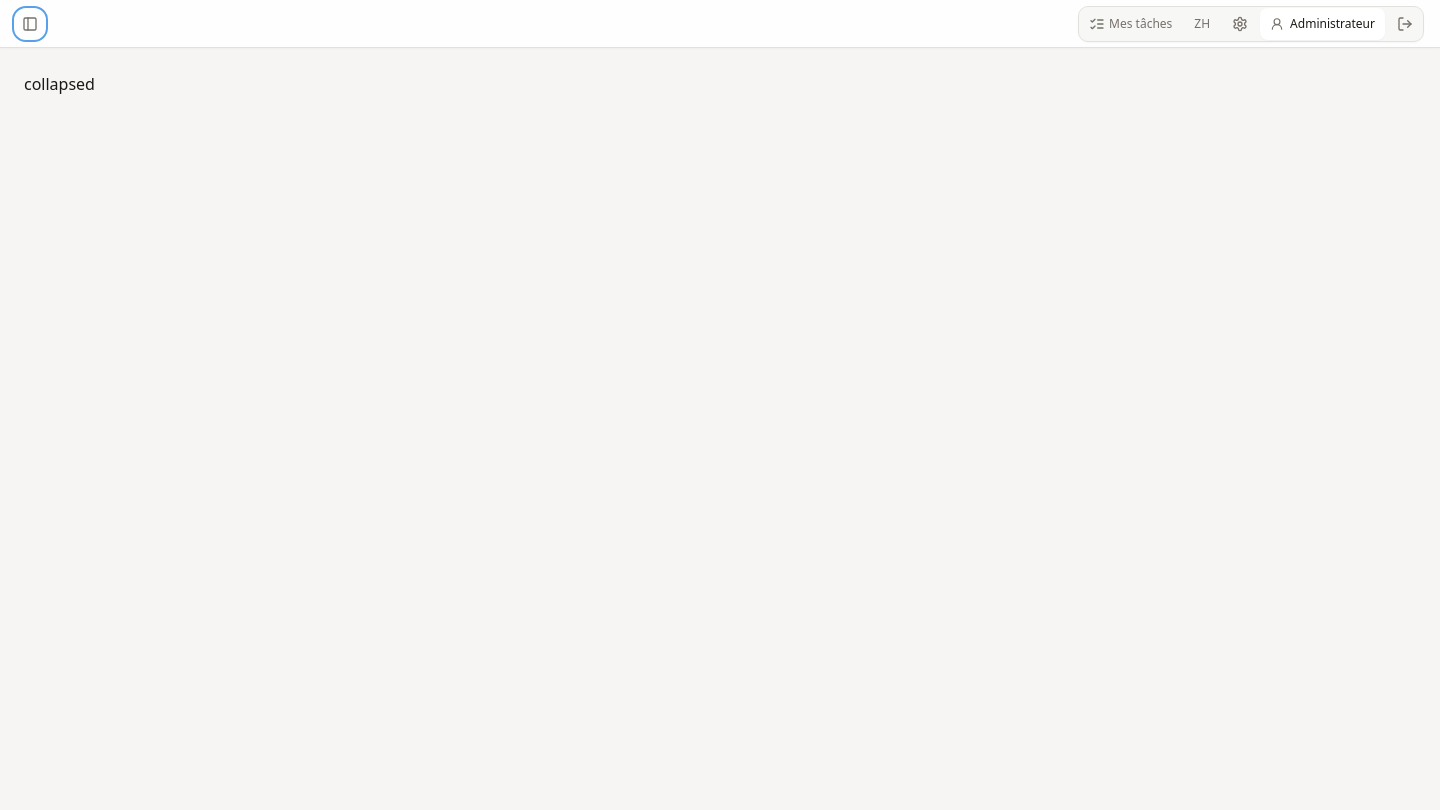
Test: closes the real fr sheet from its explicit close button
Check: the text "collapsed" is shown, box [24,73,95,95]
Click the button named "Afficher ou masquer le menu" at x=30, y=24, box [16,10,44,38]
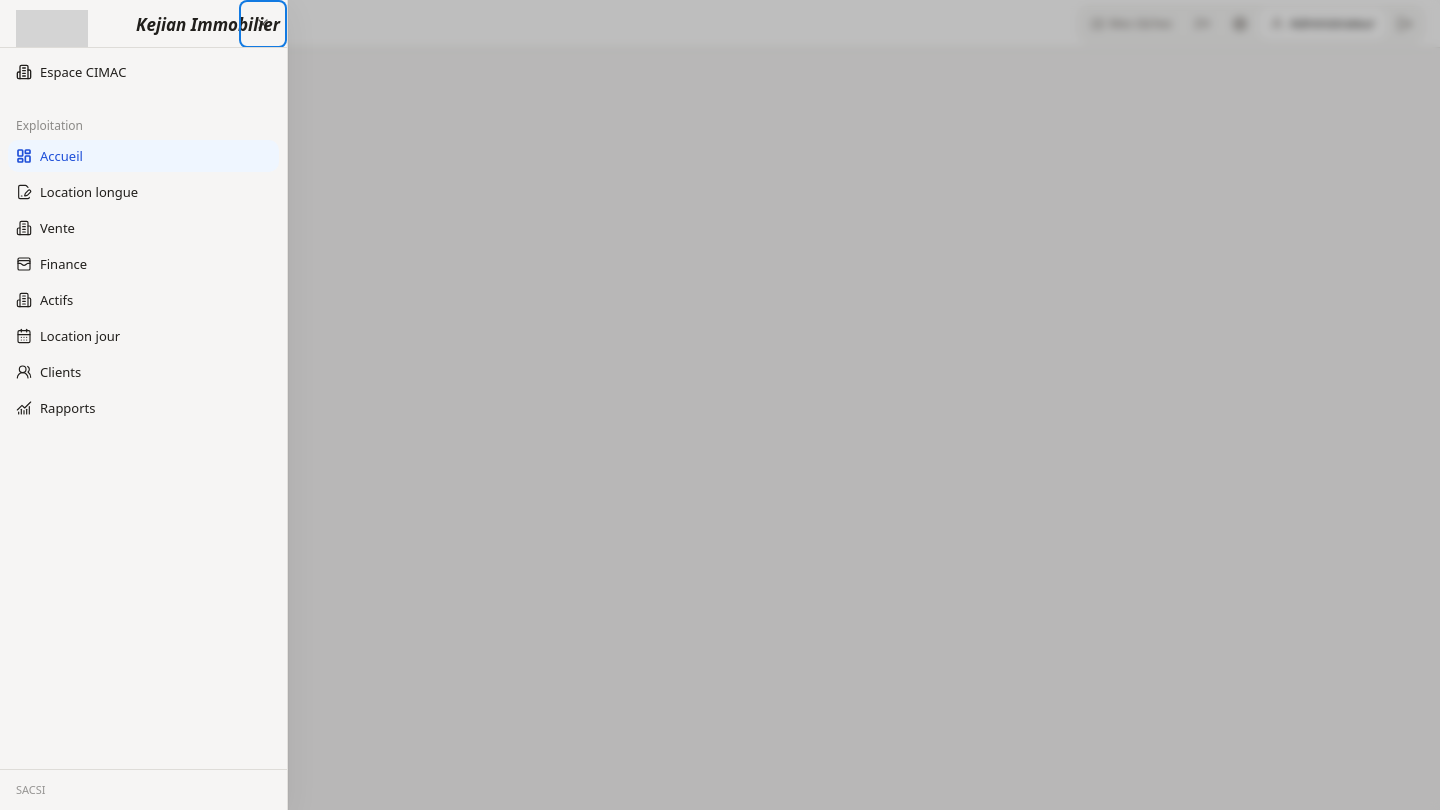
Check: the dialog is shown, box [0,0,288,809]
Click the button named "Fermer le menu" at x=263, y=24, box [239,0,287,48]
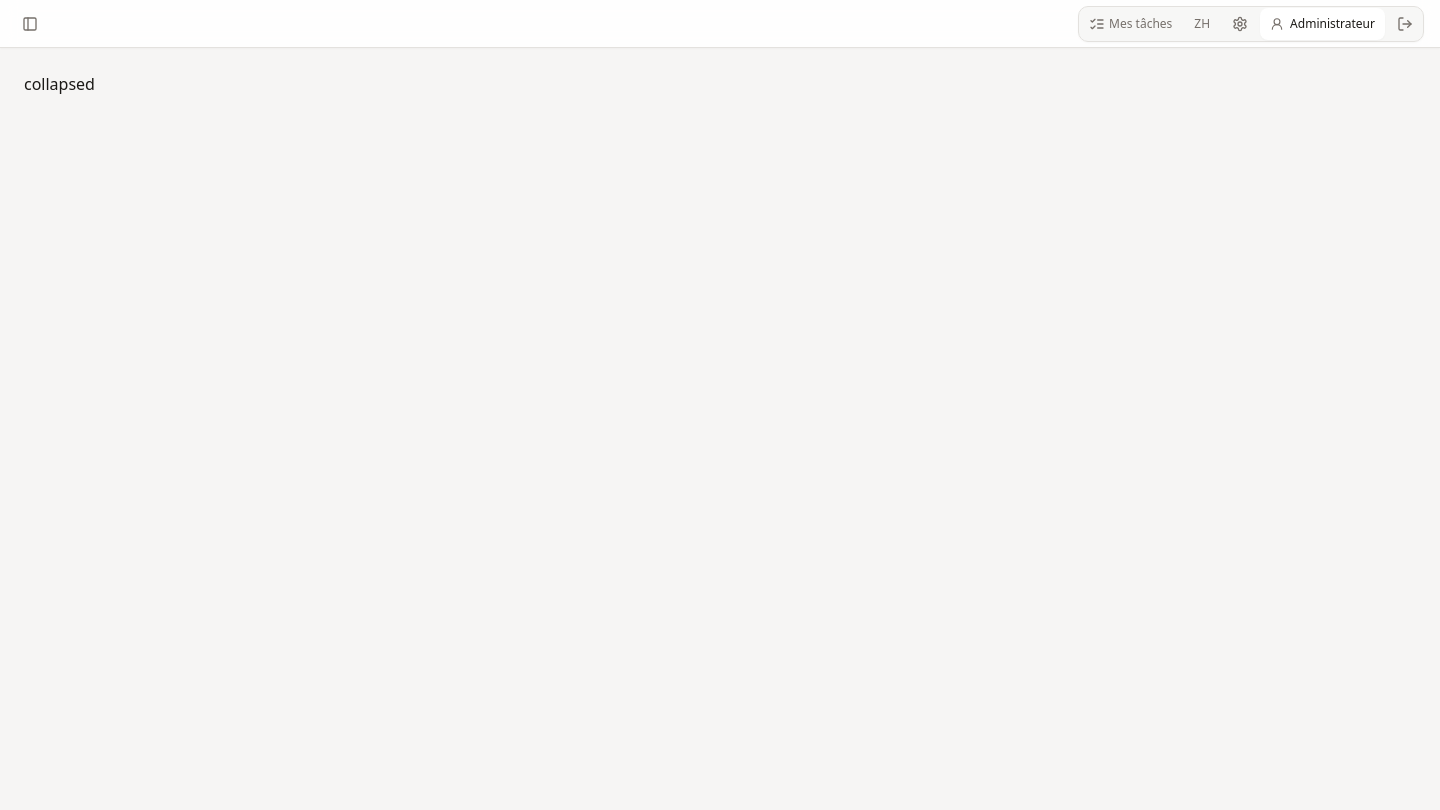
Check: the dialog is gone
